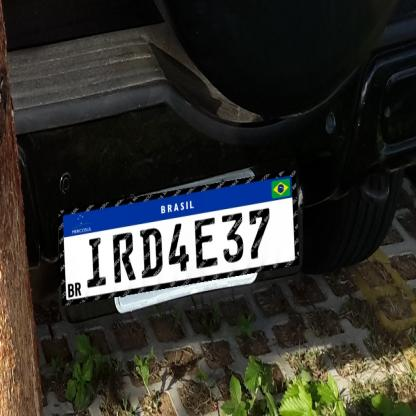PlacaM: (58, 169, 300, 306)
